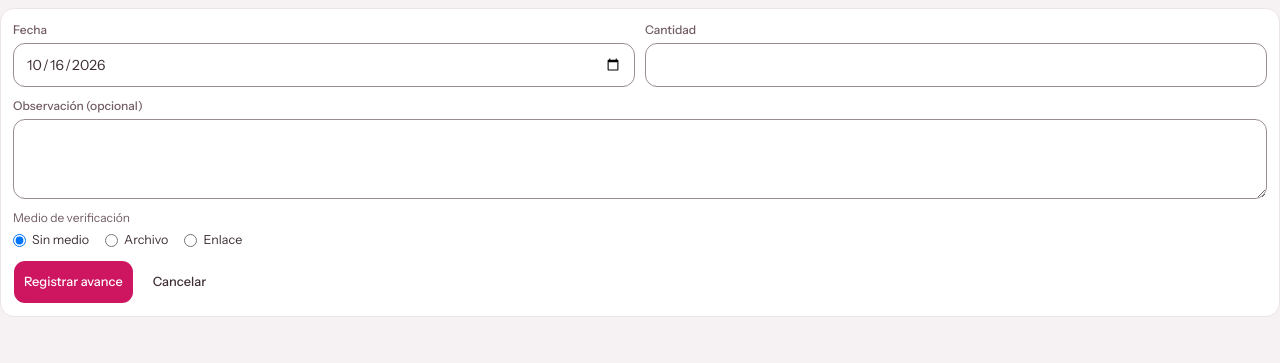
Test: EjecucionAvanceForm › caps the date at today in Bogota and blocks a future date locally
The image size is (1280, 363).
Type "2099-01-01" into the date field labelled "Fecha" at [324, 65], box [13,43,635,87]
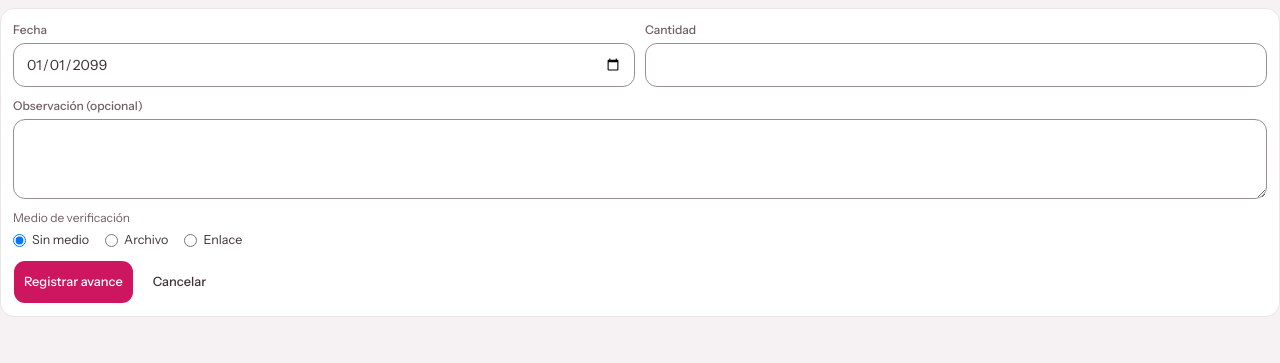
Type "1" into the field labelled "Cantidad" at [956, 65], box [645,43,1267,87]
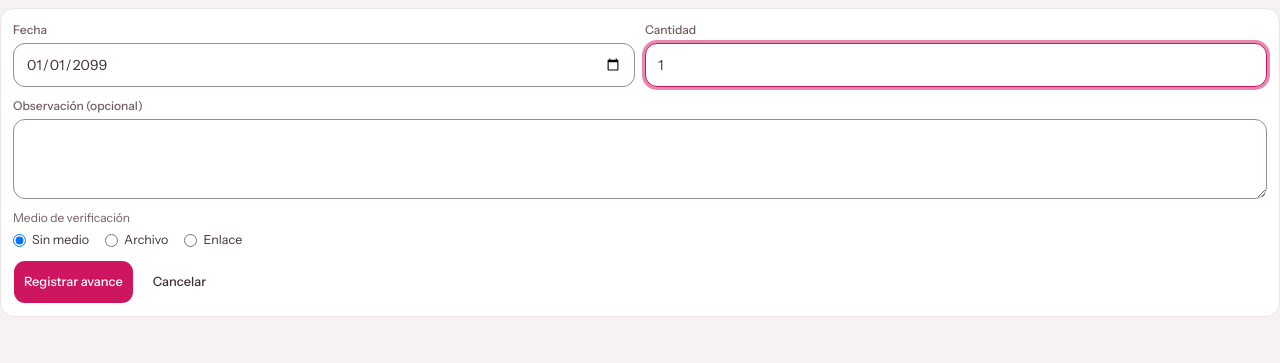
Click the button "Registrar avance" at [73, 282], box [13,260,134,304]
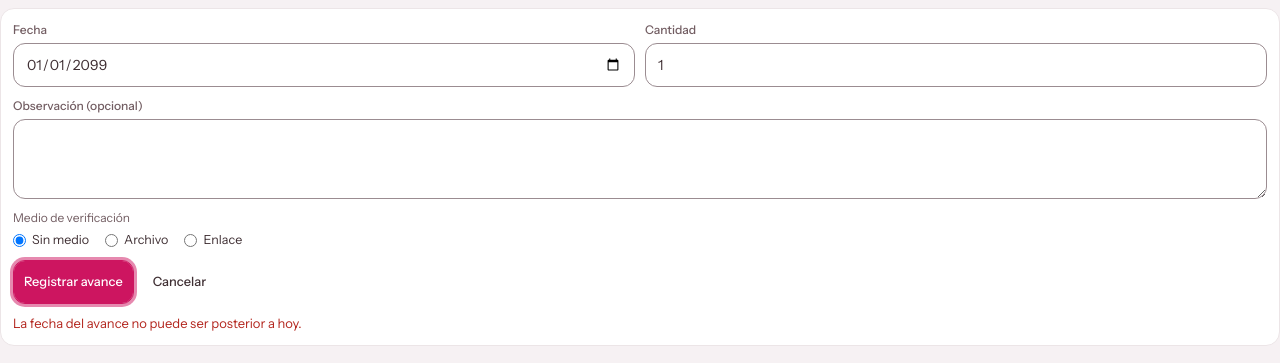
Expected: the message shows "posterior a hoy", [13,315,302,331]
